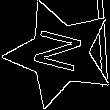N_E: (29, 28, 90, 80)
